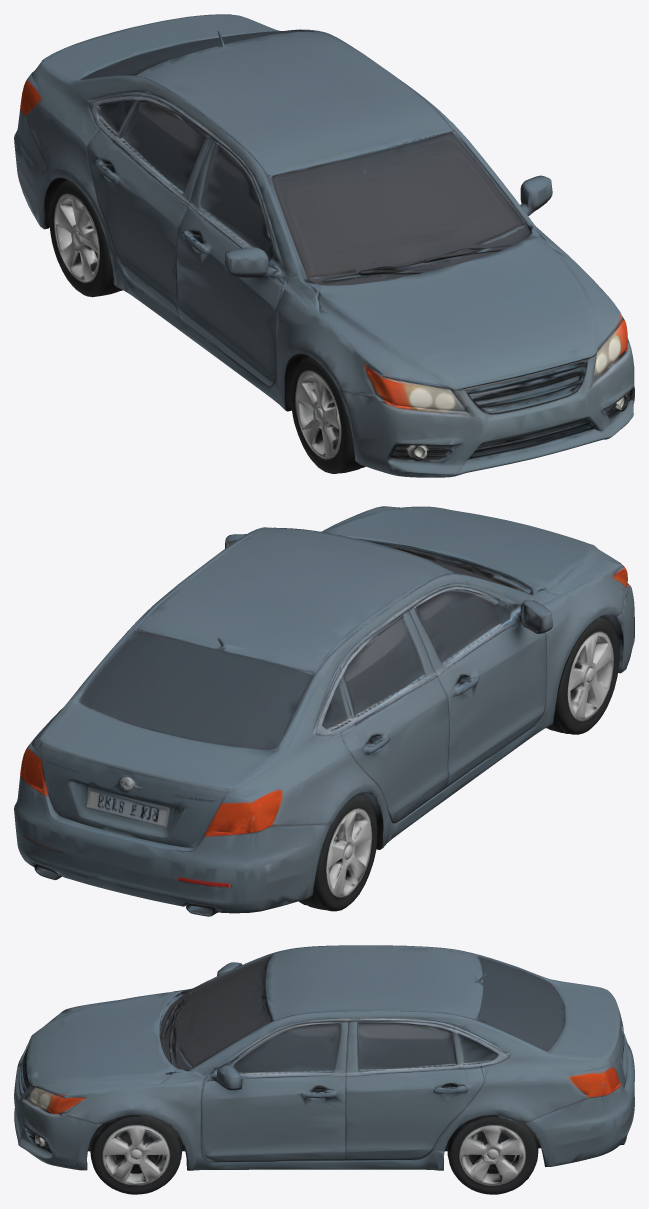
3 views of the same model, one above another, from view 1: azimuth 30°, elevation 25°; view 2: azimuth 150°, elevation 25°; view 3: azimuth 270°, elevation 25° (orthographic). The views are drawn at different scales.
Parts seen in each view (by area): view 1: node_0; view 2: node_0; view 3: node_0.
Part boxes in pixels (box(x1,y1,x2,y2)): node_0: box(14, 14, 634, 477); node_0: box(14, 506, 634, 916); node_0: box(14, 945, 634, 1194).
Size of the model in its own units: 0.5196 by 0.3602 by 1.17.
Materials: 1 (1 with a texture image).
